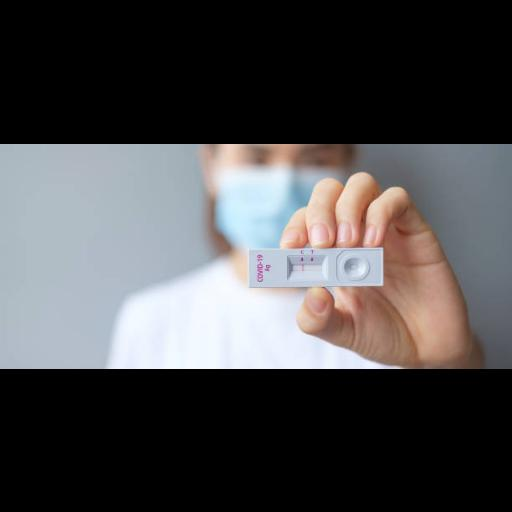Neg: (250, 248, 382, 284)
